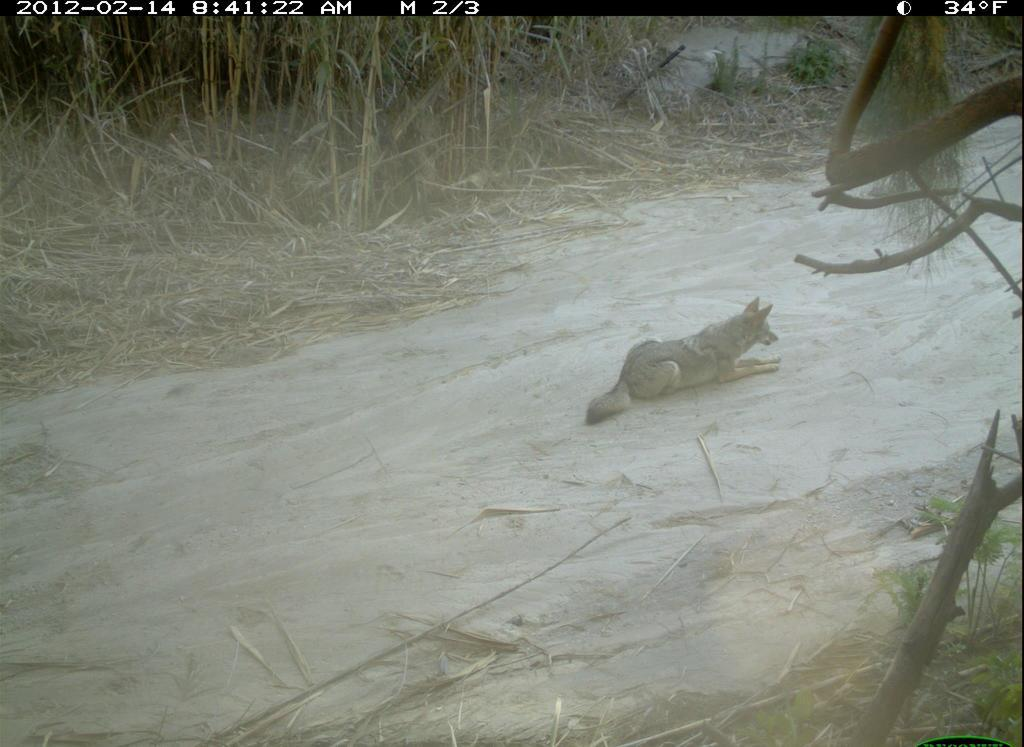coyote: (577, 290, 792, 428)
